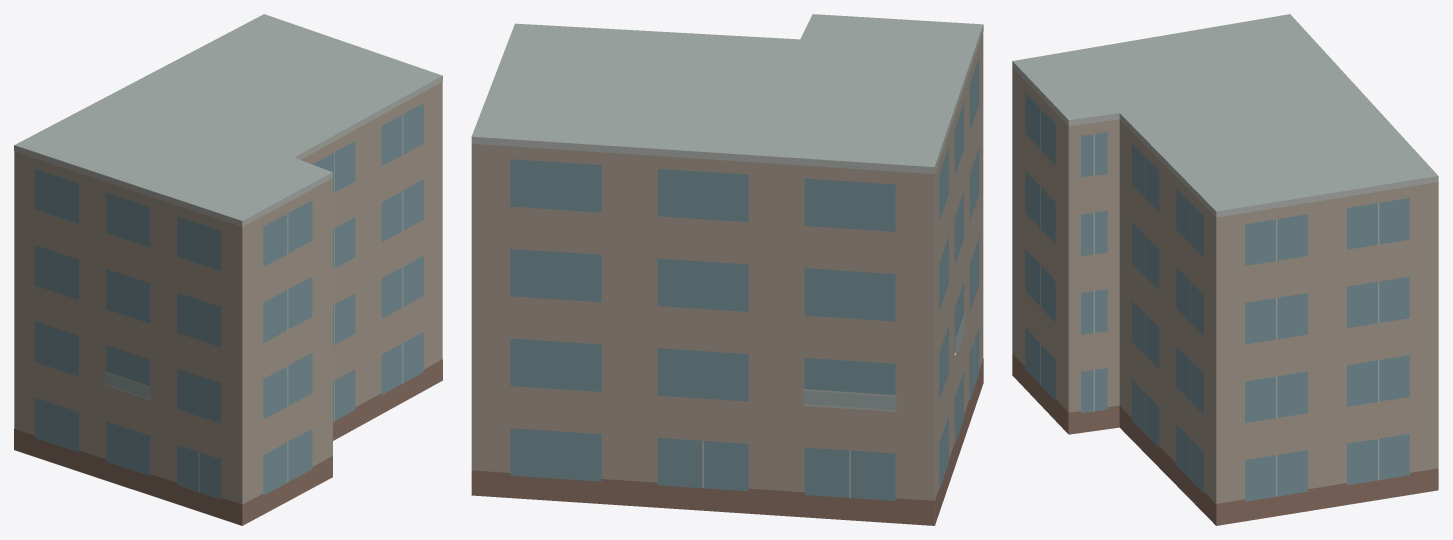
The model's file is survey-upis-32523849.glb.
3 views of the same model, side by side, from view 1: azimuth 30°, elevation 25°; view 2: azimuth 150°, elevation 25°; view 3: azimuth 270°, elevation 25° (orthographic). The views are drawn at different scales.
Visible parts, largest first — view 1: survey-upis-32523849.tmp; view 2: survey-upis-32523849.tmp; view 3: survey-upis-32523849.tmp.
Boxes of the visible parts, left/top/right/bottom form: survey-upis-32523849.tmp: left=14, top=14, right=442, bottom=525; survey-upis-32523849.tmp: left=471, top=14, right=983, bottom=525; survey-upis-32523849.tmp: left=1012, top=14, right=1438, bottom=525.
Bounding box in the file's own units: 16.86 × 12.5 × 15.37.
